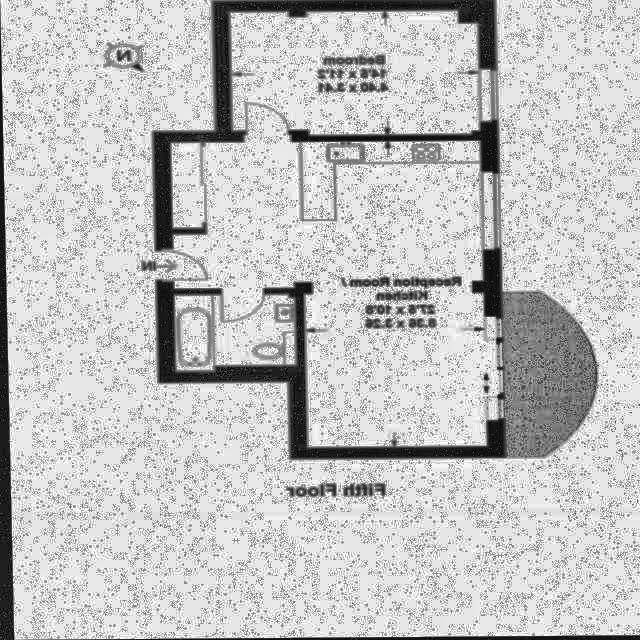room: (149, 132, 496, 452), (230, 11, 491, 136), (172, 288, 293, 372)
